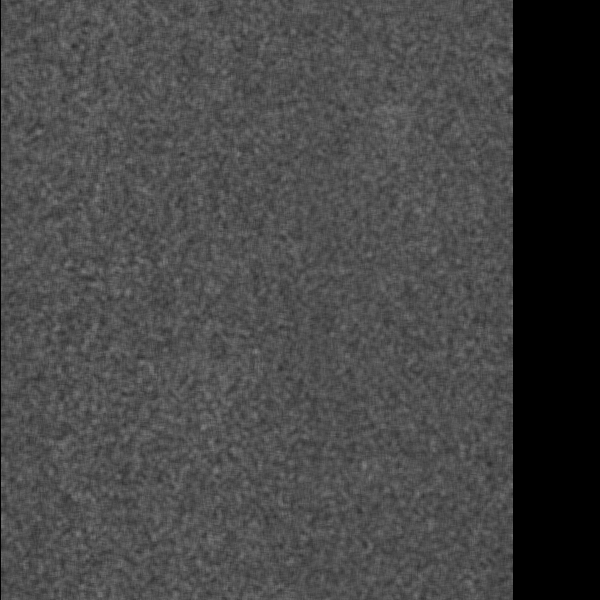spark: (141, 542, 223, 579), (349, 343, 415, 384), (32, 488, 70, 549), (437, 91, 461, 117), (430, 1, 449, 20)
